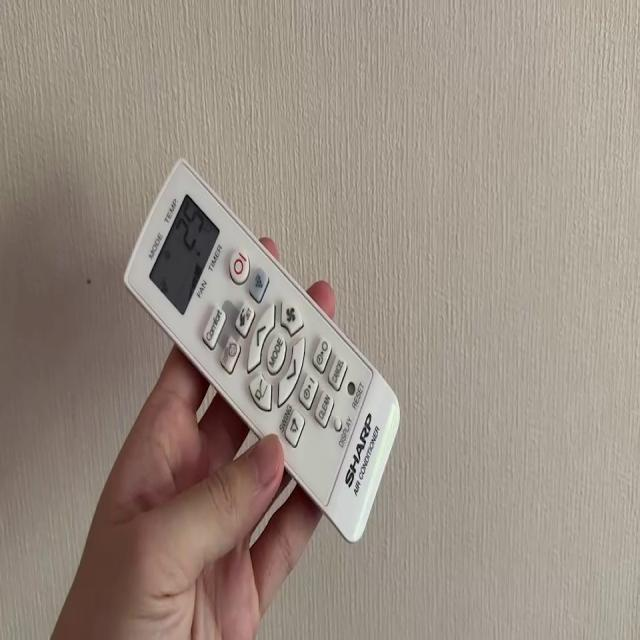remote: (124, 160, 403, 546)
